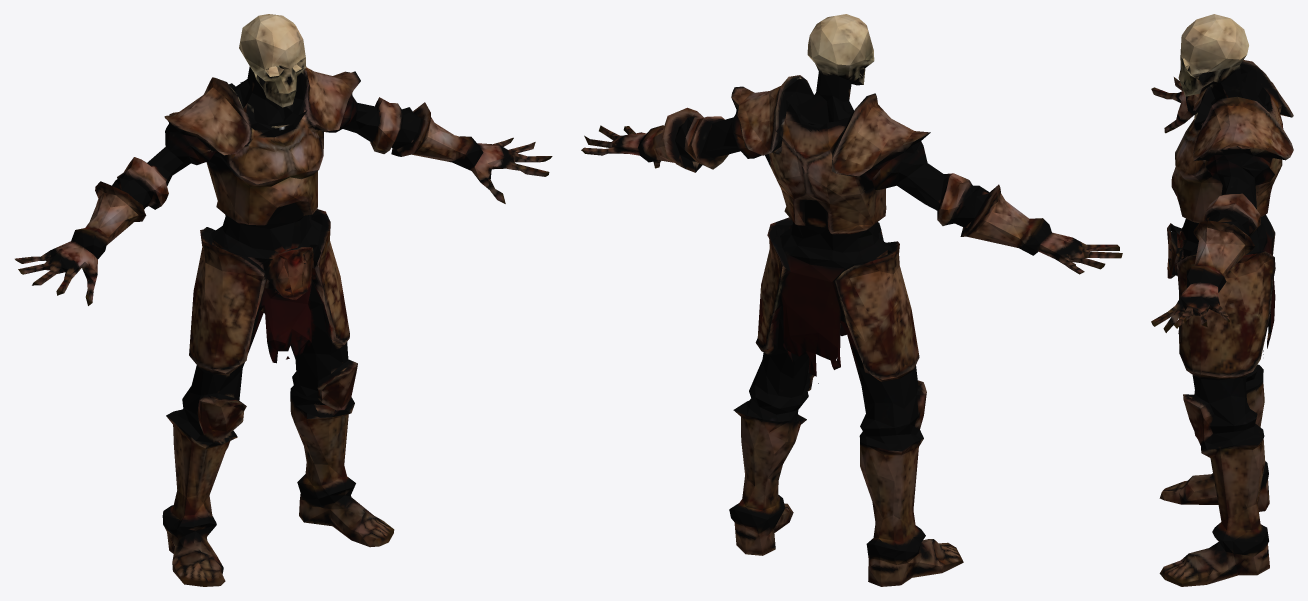
File: skeleton_warrior.gltf
3 renders of one model, left to right at view 1: azimuth 30°, elevation 25°; view 2: azimuth 150°, elevation 25°; view 3: azimuth 270°, elevation 25°, orthographic. The views are drawn at different scales.
Parts seen in each view (by area): view 1: skeleton_warrior; view 2: skeleton_warrior; view 3: skeleton_warrior.
Part boxes in pixels (x1,y1,x2,y2): skeleton_warrior: (15,14,552,586); skeleton_warrior: (581,14,1122,586); skeleton_warrior: (1151,14,1293,586).
Bounding box in the file's own units: 1 × 0.9769 × 0.2432.
Materials: 1 (1 with a texture image).
